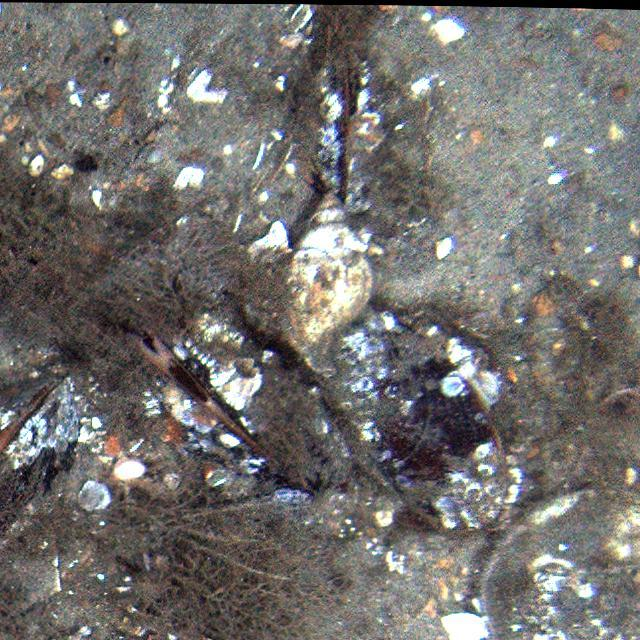whelk: (290, 187, 376, 346)
